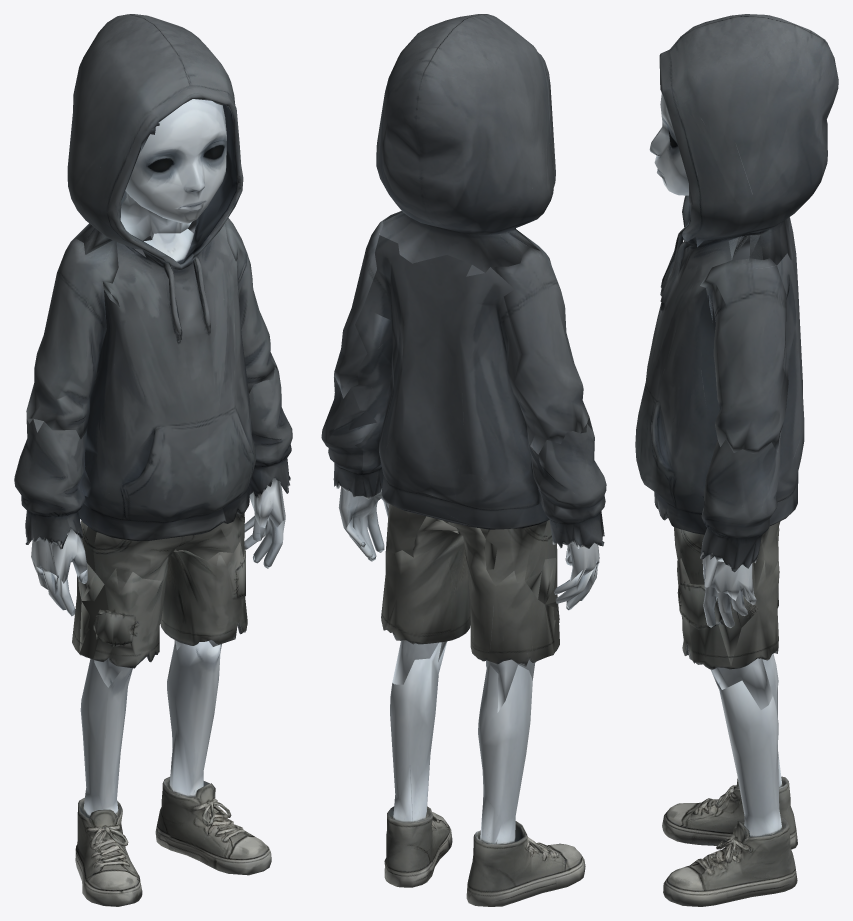
File: lost_kid.fbx
3 renders of one model, left to right at view 1: azimuth 30°, elevation 25°; view 2: azimuth 150°, elevation 25°; view 3: azimuth 270°, elevation 25°, orthographic. The views are drawn at different scales.
Parts seen in each view (by area): view 1: Torso, Head, LeftShin, UpperArm, Shin, Forearm, LeftThigh, Thigh, LeftForearm, LeftUpperArm, Hand, LeftHand; view 2: Torso, Head, Shin, UpperArm, LeftShin, LeftThigh, Thigh, Forearm, LeftForearm, LeftUpperArm, Hand, LeftHand; view 3: Head, Torso, LeftUpperArm, LeftShin, LeftForearm, LeftThigh, Shin, LeftHand.
Part boxes in pixels (x1=…): Torso: x1=78, y1=221, x2=260, y2=594; Head: x1=67, y1=14, x2=243, y2=263; LeftShin: x1=155, y1=640, x2=271, y2=875; UpperArm: x1=26, y1=238, x2=119, y2=439; Shin: x1=75, y1=659, x2=142, y2=906; Forearm: x1=14, y1=419, x2=96, y2=583; LeftThigh: x1=160, y1=540, x2=269, y2=655; Thigh: x1=71, y1=562, x2=168, y2=687; LeftForearm: x1=249, y1=367, x2=292, y2=527; LeftUpperArm: x1=225, y1=218, x2=278, y2=393; Hand: x1=31, y1=558, x2=108, y2=652; LeftHand: x1=244, y1=515, x2=285, y2=566; Torso: x1=349, y1=235, x2=566, y2=586; Head: x1=376, y1=14, x2=555, y2=276; Shin: x1=466, y1=665, x2=585, y2=906; UpperArm: x1=491, y1=230, x2=592, y2=454; LeftShin: x1=384, y1=641, x2=452, y2=887; LeftThigh: x1=361, y1=516, x2=470, y2=684; Thigh: x1=447, y1=522, x2=581, y2=712; Forearm: x1=524, y1=423, x2=606, y2=582; LeftForearm: x1=321, y1=377, x2=388, y2=529; LeftUpperArm: x1=334, y1=211, x2=401, y2=398; Hand: x1=525, y1=546, x2=598, y2=652; LeftHand: x1=339, y1=502, x2=388, y2=561; Head: x1=649, y1=14, x2=838, y2=265; Torso: x1=635, y1=212, x2=804, y2=592; LeftUpperArm: x1=700, y1=235, x2=788, y2=453; LeftShin: x1=663, y1=671, x2=797, y2=906; LeftForearm: x1=700, y1=436, x2=780, y2=600; LeftThigh: x1=677, y1=558, x2=779, y2=709; Shin: x1=662, y1=654, x2=797, y2=849; LeftHand: x1=703, y1=574, x2=757, y2=665.
Size of the model in its own units: 1.22 by 3.64 by 0.7917.
Materials: 1 (1 with a texture image).
